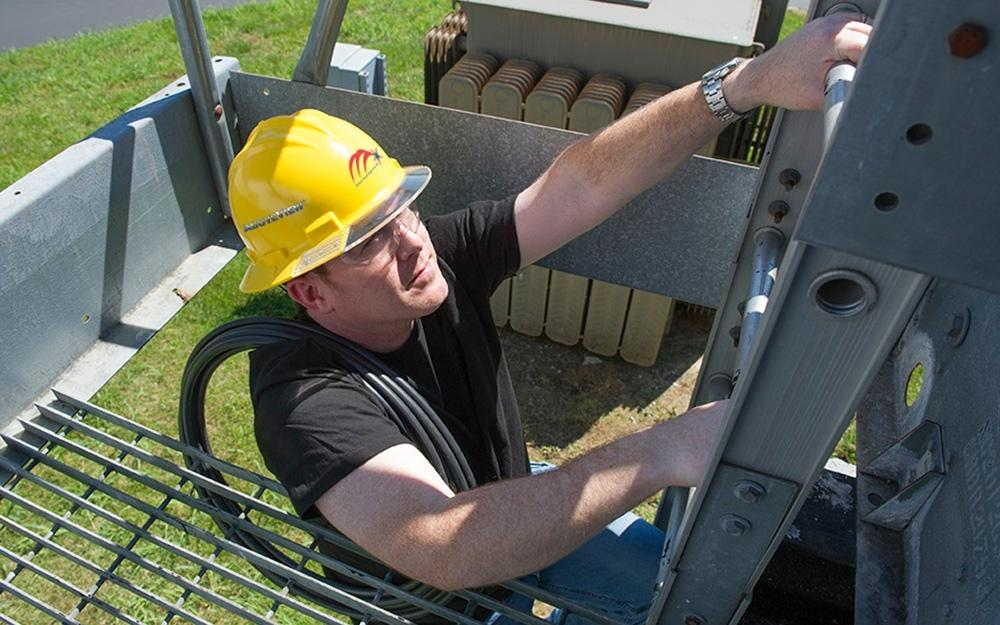helmet: (229, 106, 431, 297)
no_wear: (251, 330, 528, 535)
